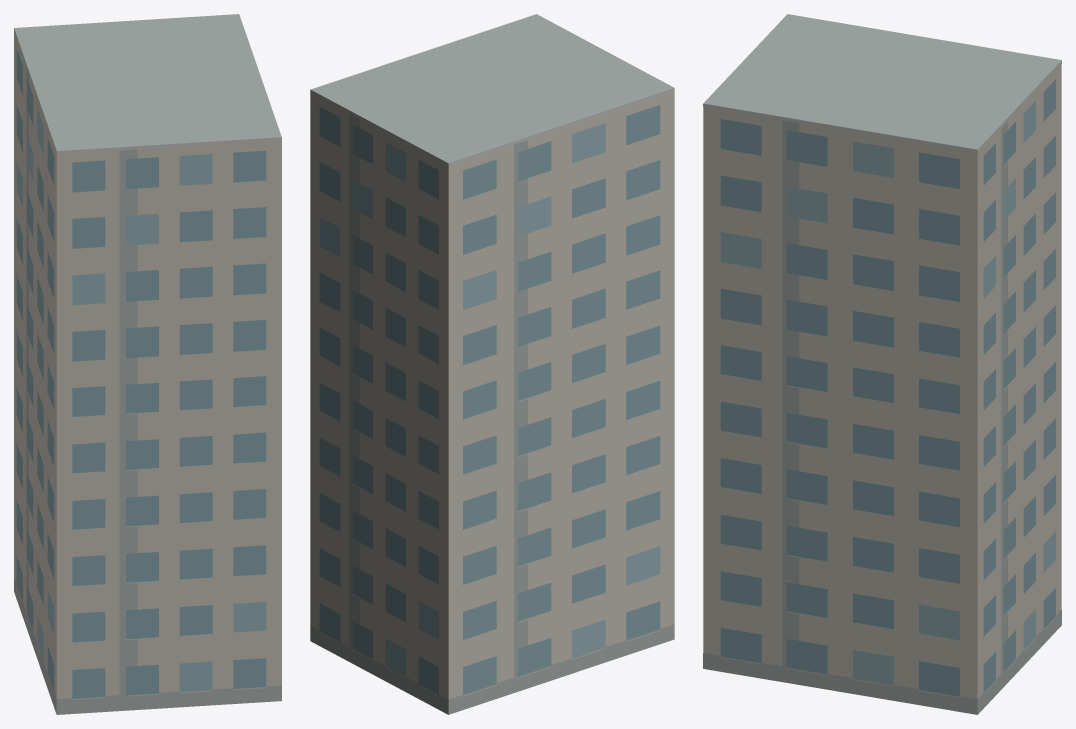
File: residential-c5ba55a0-d081-4bf6-90d4-4273ef7868f7.glb
3 views of the same model, side by side, from view 1: azimuth 30°, elevation 25°; view 2: azimuth 150°, elevation 25°; view 3: azimuth 270°, elevation 25° (orthographic). The views are drawn at different scales.
Parts seen in each view (by area): view 1: residential-c5ba55a0-d081-4bf6-90d4-4273ef7868f7.tmp; view 2: residential-c5ba55a0-d081-4bf6-90d4-4273ef7868f7.tmp; view 3: residential-c5ba55a0-d081-4bf6-90d4-4273ef7868f7.tmp.
Boxes of the visible parts, <box> form: residential-c5ba55a0-d081-4bf6-90d4-4273ef7868f7.tmp: <box>14,14,281,714</box>; residential-c5ba55a0-d081-4bf6-90d4-4273ef7868f7.tmp: <box>310,14,674,714</box>; residential-c5ba55a0-d081-4bf6-90d4-4273ef7868f7.tmp: <box>703,14,1061,714</box>.
Bounding box in the file's own units: 21.12 × 41 × 23.59.
